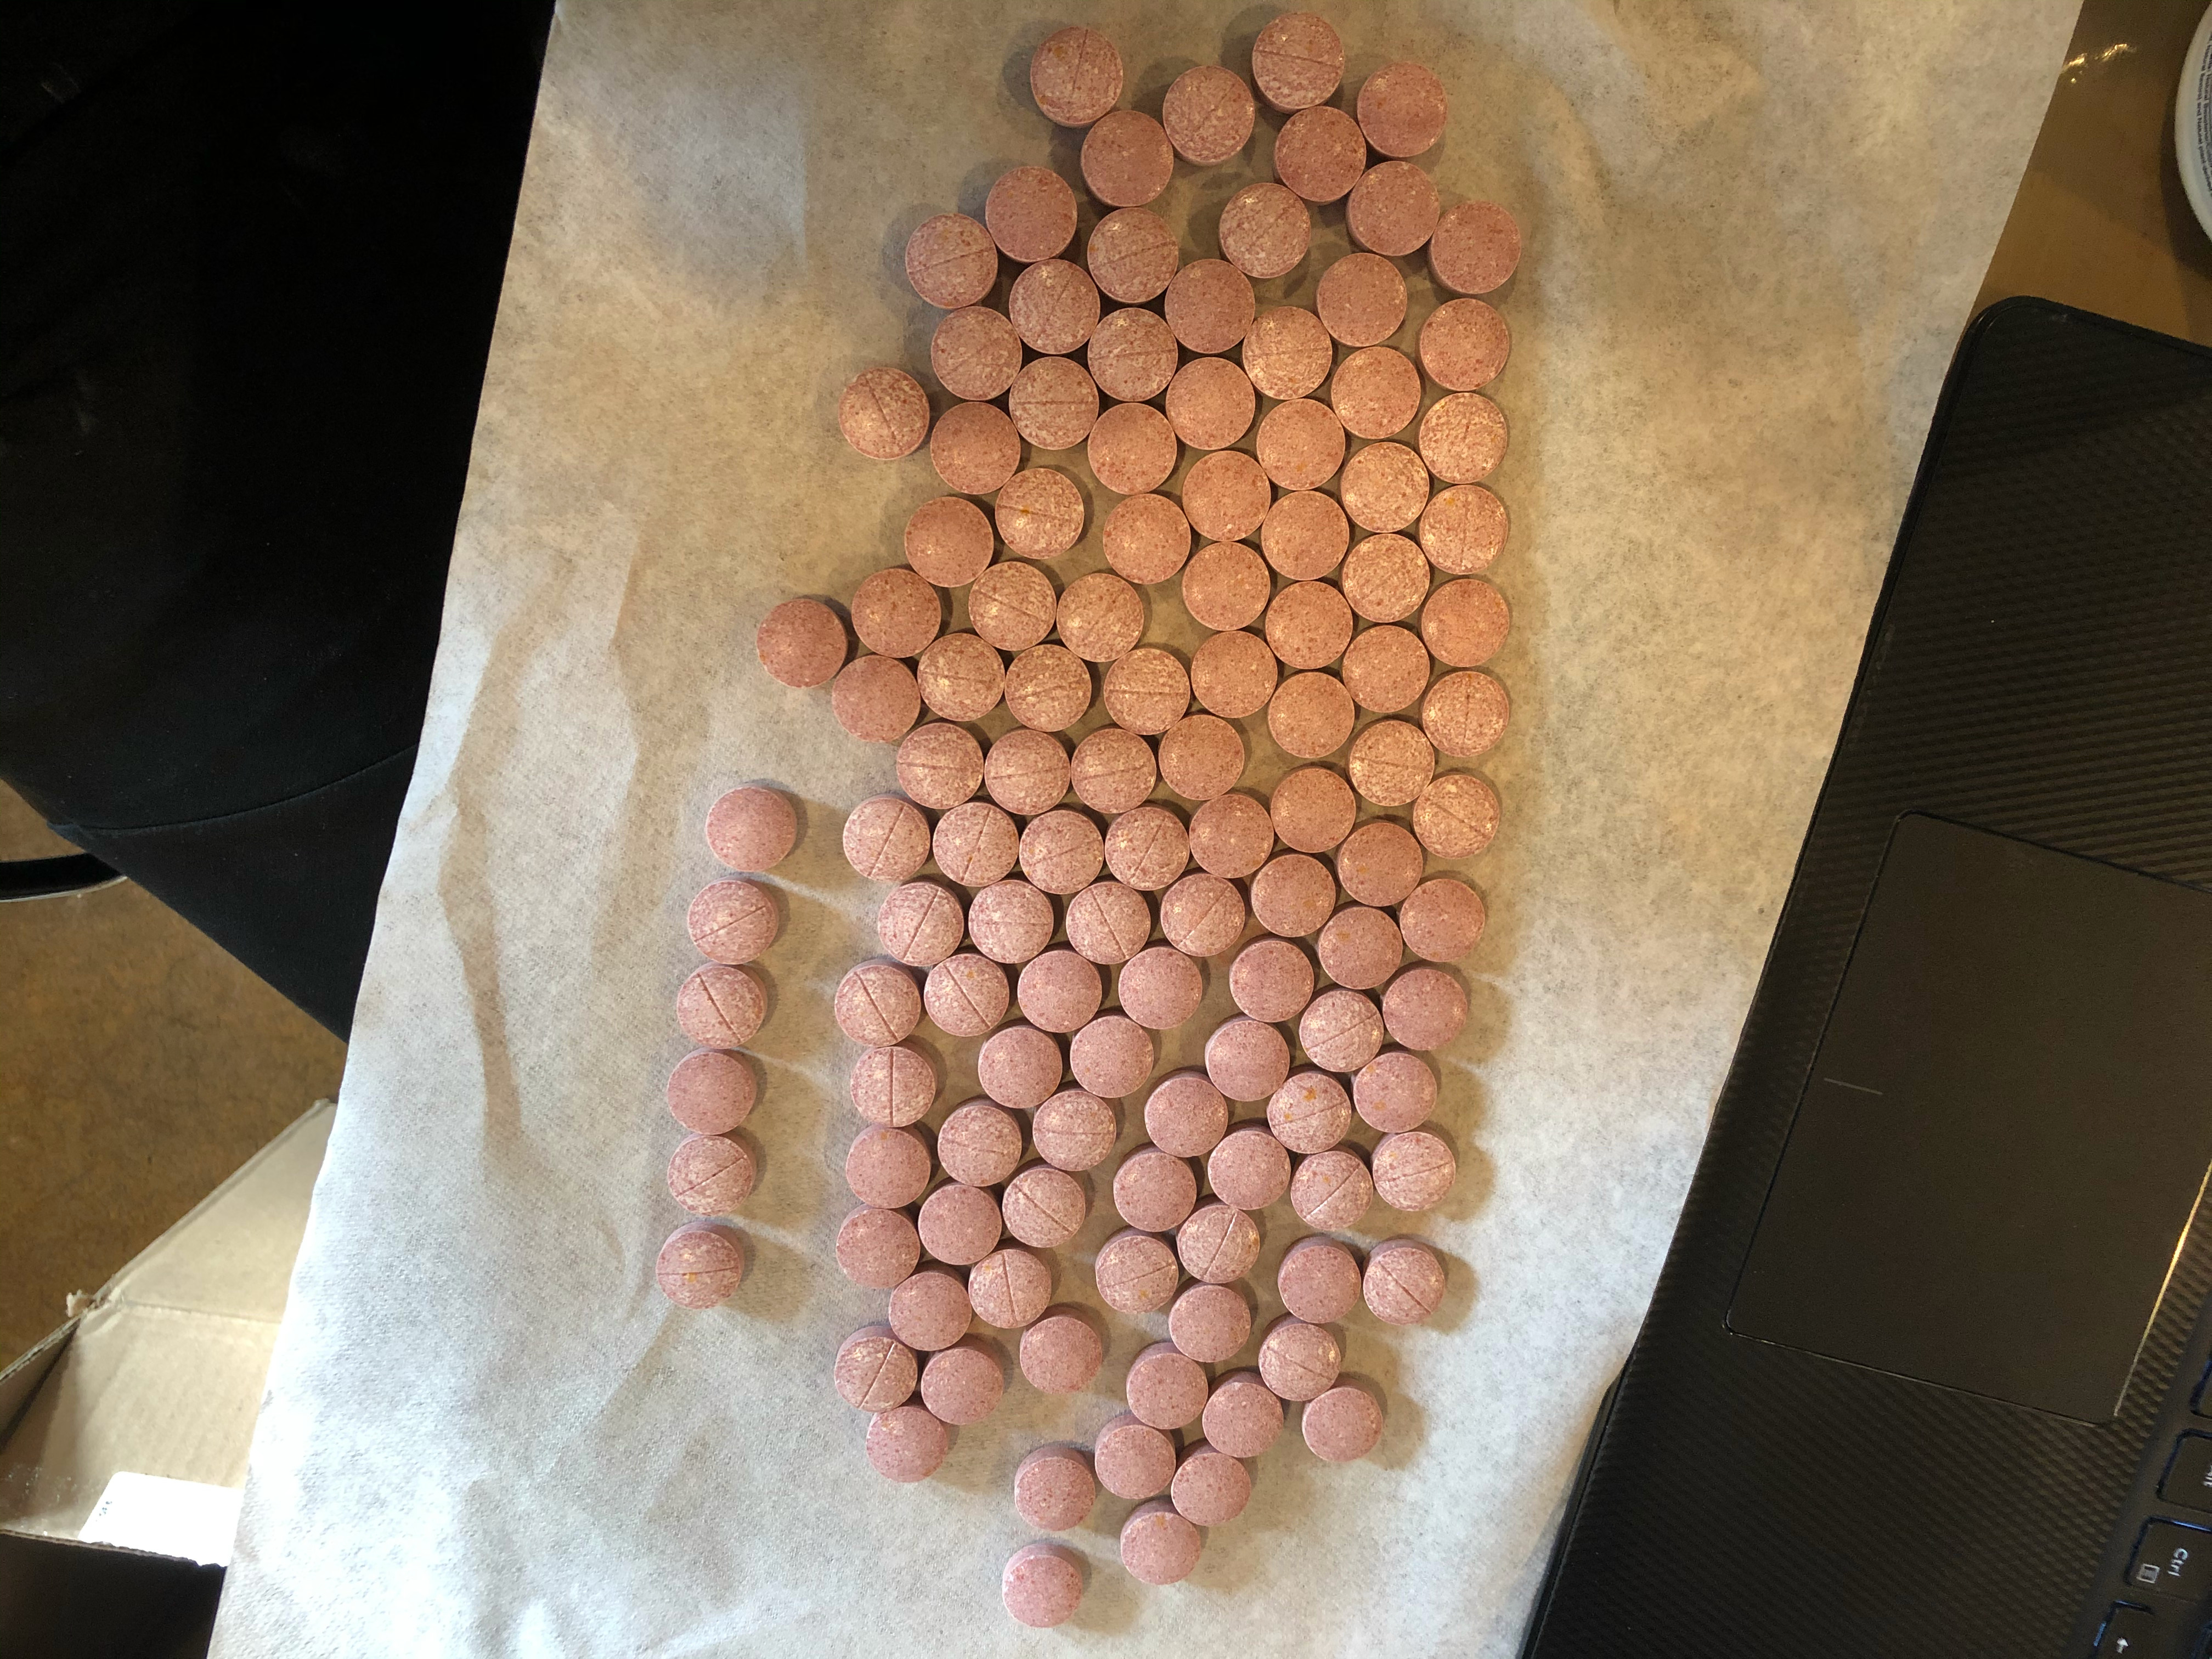tablet: (1322, 338, 1428, 444), (1024, 24, 1132, 129), (900, 207, 1005, 312), (1425, 193, 1529, 298), (923, 392, 1026, 498), (982, 160, 1083, 268), (1308, 249, 1416, 350), (1003, 350, 1103, 460), (1413, 298, 1526, 394), (1073, 105, 1176, 209), (1082, 397, 1190, 497), (831, 359, 934, 462), (1414, 385, 1519, 486), (698, 777, 806, 875), (1160, 350, 1261, 453), (1085, 202, 1184, 307), (1345, 153, 1444, 258), (1160, 61, 1258, 167), (1251, 7, 1348, 113), (754, 591, 852, 697), (1085, 298, 1179, 408), (848, 561, 949, 660), (930, 303, 1028, 406), (900, 488, 998, 591), (1214, 179, 1313, 279), (961, 556, 1061, 655), (1007, 256, 1103, 359), (1259, 486, 1355, 589), (1357, 56, 1451, 160), (993, 462, 1090, 561), (829, 652, 927, 749), (1338, 441, 1435, 538), (1339, 526, 1433, 627), (1169, 256, 1258, 361), (913, 627, 1007, 725), (653, 1222, 751, 1316), (890, 718, 989, 810), (1268, 758, 1360, 857), (1275, 103, 1369, 199), (1181, 537, 1275, 633), (1420, 664, 1515, 758), (1411, 767, 1507, 861), (1099, 493, 1197, 586), (1420, 573, 1517, 666), (685, 875, 782, 967), (1240, 301, 1331, 401), (664, 1046, 765, 1134), (1054, 570, 1148, 664), (1277, 1234, 1362, 1337), (841, 789, 935, 882), (1181, 446, 1271, 542), (1264, 577, 1355, 673), (1266, 669, 1357, 765), (874, 875, 965, 971), (1190, 626, 1278, 723), (1068, 723, 1160, 816), (998, 1539, 1090, 1631), (1012, 1441, 1104, 1534), (1418, 484, 1512, 575), (1118, 1497, 1214, 1586), (1200, 1368, 1289, 1464), (1003, 643, 1096, 734), (1157, 713, 1247, 805), (834, 958, 925, 1051), (1015, 1310, 1108, 1401), (1186, 788, 1277, 880), (1202, 1011, 1292, 1103), (911, 1180, 1005, 1269), (935, 1101, 1029, 1190), (1141, 1066, 1230, 1161), (1094, 1225, 1183, 1319), (979, 725, 1075, 812), (1059, 877, 1155, 964), (674, 962, 772, 1047), (1103, 645, 1193, 735), (831, 1323, 921, 1413), (1029, 1087, 1120, 1178), (923, 950, 1014, 1040), (1226, 936, 1317, 1026), (1090, 1412, 1181, 1502), (1348, 714, 1437, 807), (1381, 962, 1470, 1054), (885, 1262, 972, 1356), (1123, 1338, 1211, 1432), (1362, 1236, 1449, 1330), (833, 1204, 923, 1293), (1111, 1140, 1200, 1230), (1343, 619, 1430, 711), (1259, 396, 1345, 490), (977, 1023, 1066, 1112), (1068, 1014, 1157, 1103), (1254, 1316, 1343, 1405), (932, 798, 1019, 889), (1000, 1164, 1090, 1251), (1157, 868, 1247, 955), (1251, 849, 1338, 939), (1399, 877, 1489, 964), (920, 1347, 1012, 1432), (850, 1042, 939, 1129), (968, 878, 1055, 967), (1339, 816, 1428, 903), (667, 1131, 758, 1216), (1108, 802, 1191, 894), (967, 1246, 1054, 1333), (1369, 1129, 1458, 1215), (843, 1126, 935, 1208), (864, 1403, 956, 1485), (1017, 946, 1104, 1032), (1118, 946, 1205, 1032), (1019, 807, 1106, 892), (1299, 988, 1385, 1075), (1172, 1441, 1254, 1532), (1301, 1387, 1392, 1469), (1355, 1053, 1442, 1136), (1209, 1127, 1291, 1216), (1177, 1202, 1261, 1288), (1322, 903, 1404, 990), (1169, 1281, 1252, 1364), (1266, 1072, 1350, 1154), (1292, 1150, 1376, 1230)
